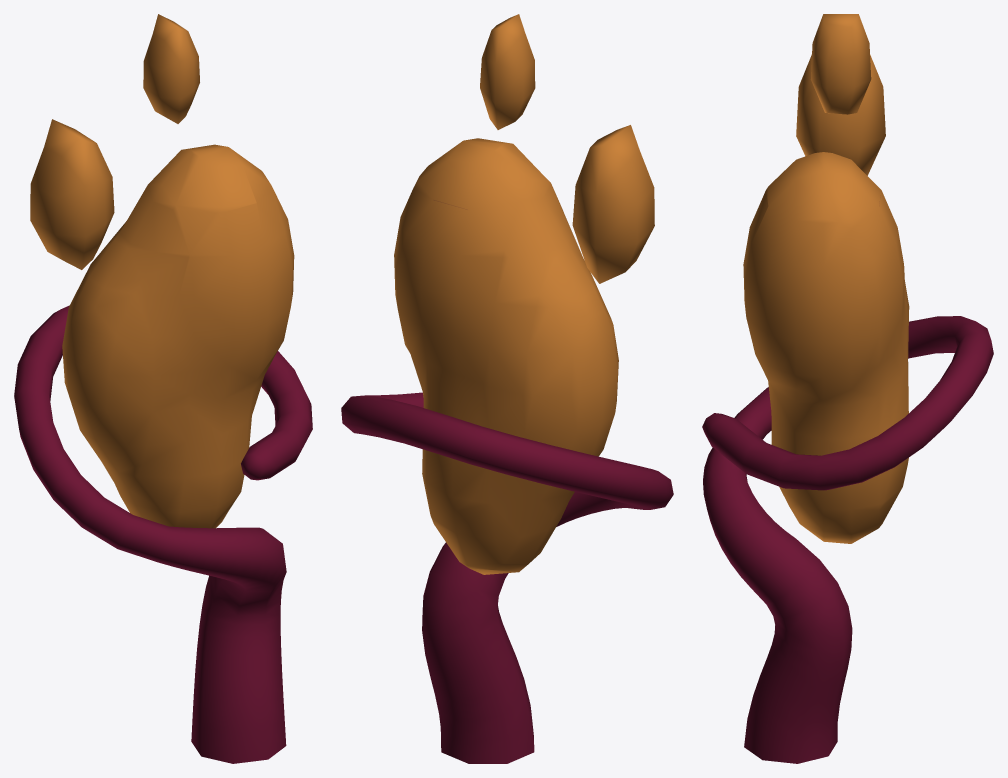
Rendered from ArbolLava.obj.
3 views of the same model, side by side, from view 1: azimuth 30°, elevation 25°; view 2: azimuth 150°, elevation 25°; view 3: azimuth 270°, elevation 25° (orthographic). The views are drawn at different scales.
Parts seen in each view (by area): view 1: Tree_Lava_2; view 2: Tree_Lava_2; view 3: Tree_Lava_2.
Part boxes in pixels (left/top/right/bottom): Tree_Lava_2: left=14, top=14, right=312, bottom=763; Tree_Lava_2: left=341, top=14, right=673, bottom=763; Tree_Lava_2: left=702, top=14, right=993, bottom=763.
Size of the model in its own units: 123 by 308 by 115.
1 material, 1 textured.
